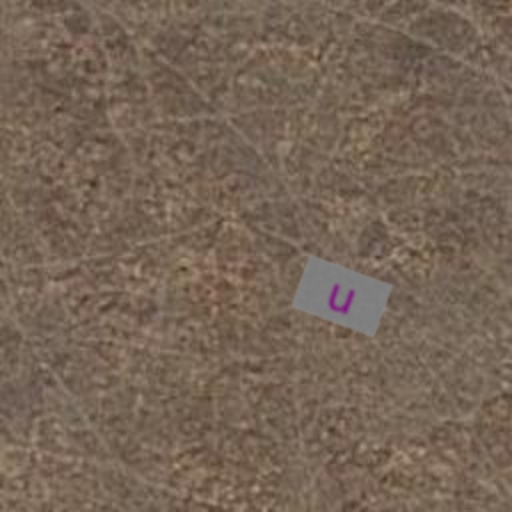rectangle: (284, 238, 400, 354)
